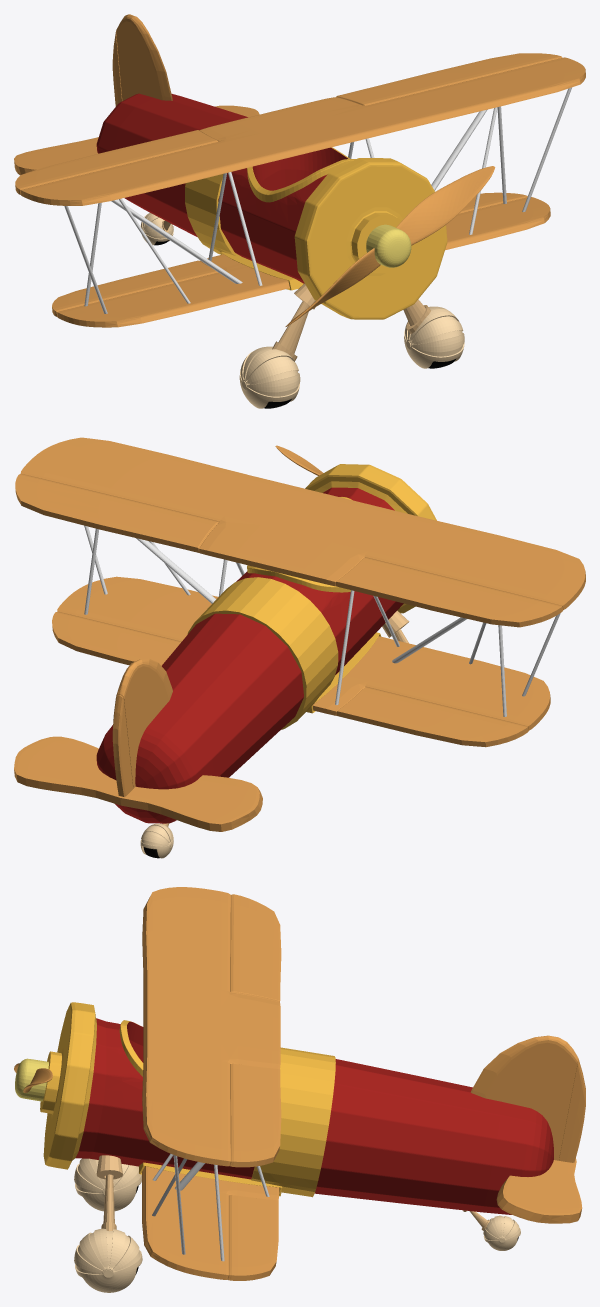
File: cartoon_biplane.obj
3 views of the same model, one above another, from view 1: azimuth 30°, elevation 25°; view 2: azimuth 150°, elevation 25°; view 3: azimuth 270°, elevation 25° (orthographic).
Visible parts, largest first — view 1: Plane_Sphere.001; view 2: Plane_Sphere.001; view 3: Plane_Sphere.001.
Boxes of the visible parts, x1,y1,x2,y2 form: Plane_Sphere.001: (14, 14, 585, 408); Plane_Sphere.001: (14, 437, 585, 858); Plane_Sphere.001: (14, 887, 585, 1292).
Size of the model in its own units: 13.8 by 5.7 by 12.41.
